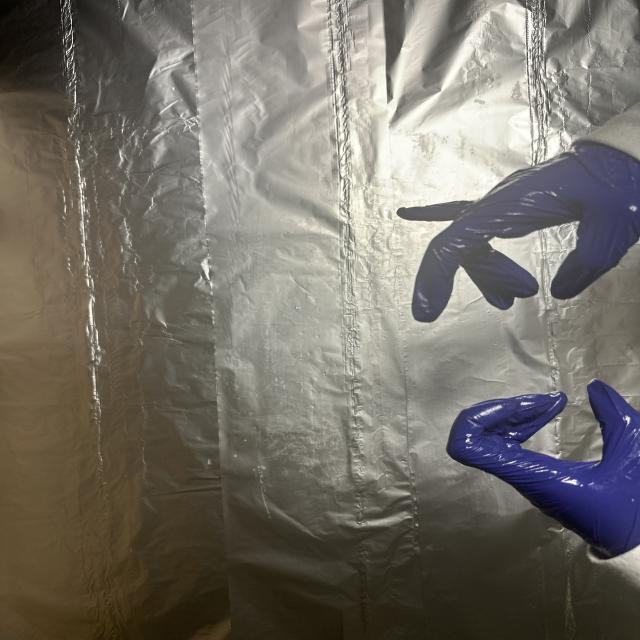gloves_contaminated: (397, 144, 640, 322), (447, 380, 640, 558)
